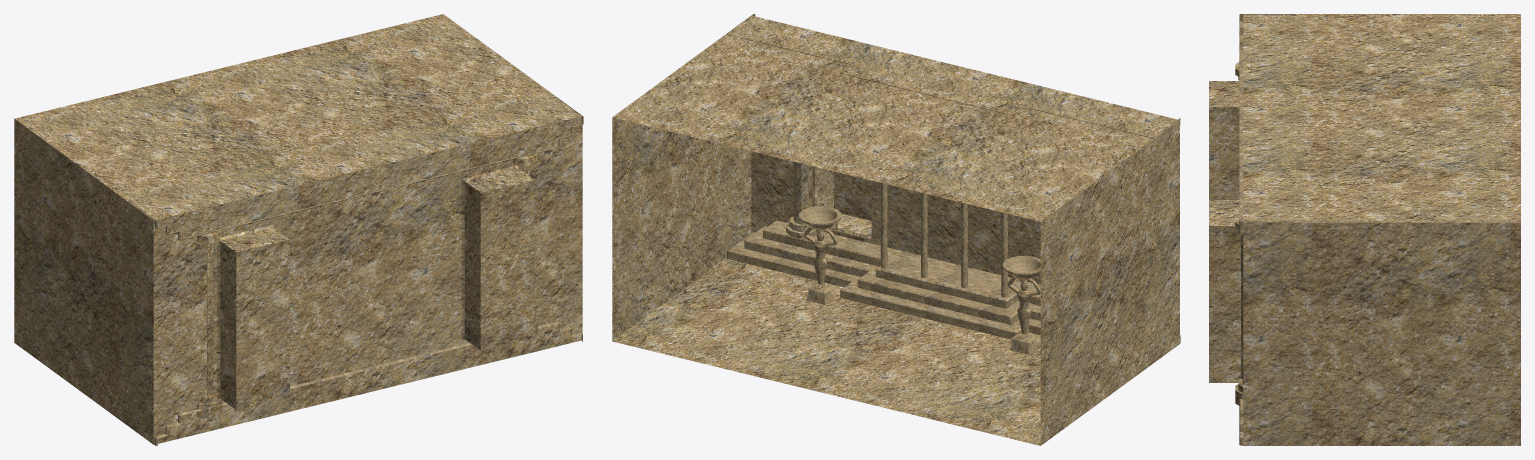
File: envExport.fbx
3 views of the same model, side by side, from view 1: azimuth 30°, elevation 25°; view 2: azimuth 150°, elevation 25°; view 3: azimuth 270°, elevation 25° (orthographic).
Visible parts, largest first — view 1: environ; view 2: environ; view 3: environ.
Part boxes in pixels (<box>): environ: <box>14,14,583,445</box>; environ: <box>612,14,1180,445</box>; environ: <box>1209,14,1520,445</box>.
Bounding box in the file's own units: 16 × 8.04 × 10.11.
